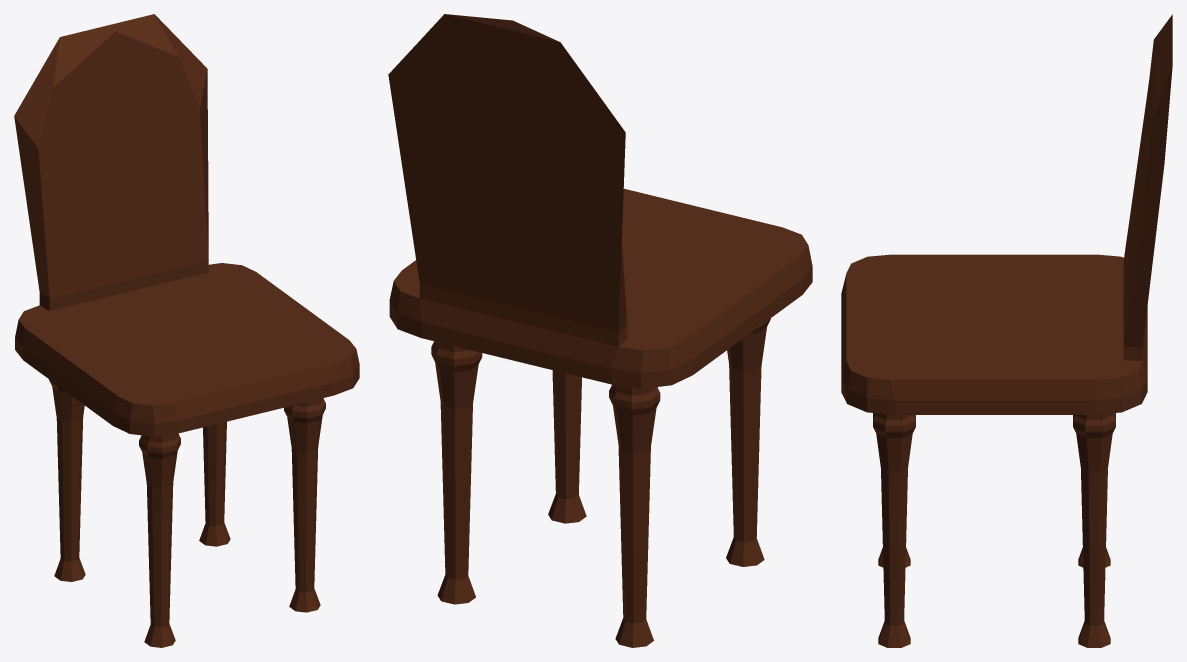
The model's file is Chair.glb.
The picture shows the model from 3 angles, left to right: view 1: azimuth 30°, elevation 25°; view 2: azimuth 150°, elevation 25°; view 3: azimuth 270°, elevation 25°; orthographic projection. The views are drawn at different scales.
Visible parts, largest first — view 1: Chair-col; view 2: Chair-col; view 3: Chair-col.
Boxes of the visible parts, left/top/right/bottom form: Chair-col: left=14, top=14, right=359, bottom=647; Chair-col: left=388, top=14, right=812, bottom=647; Chair-col: left=841, top=14, right=1172, bottom=647.
Size of the model in its own units: 3 by 6.08 by 3.25.
1 material, 1 textured.
